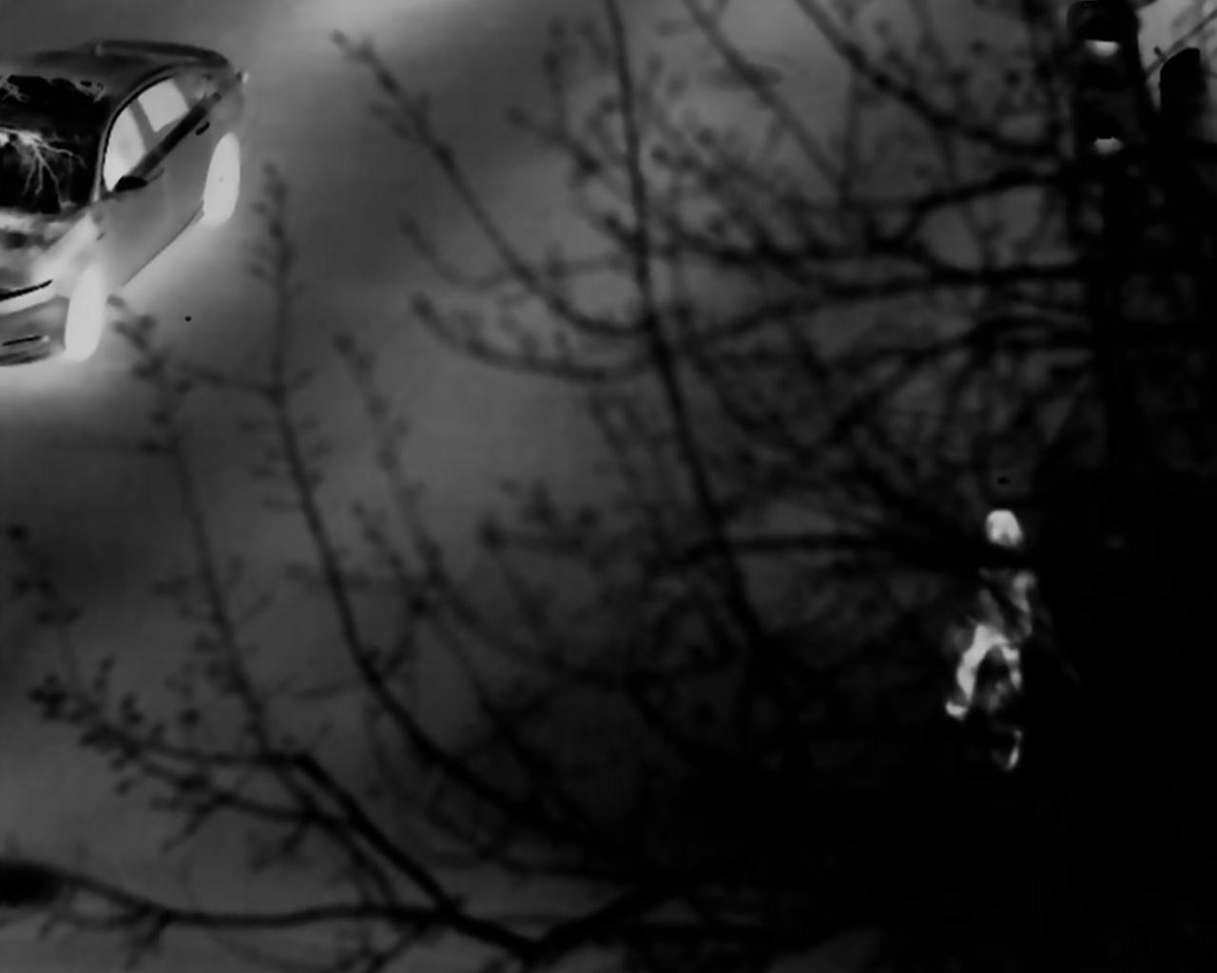person: (951, 499, 1047, 726)
